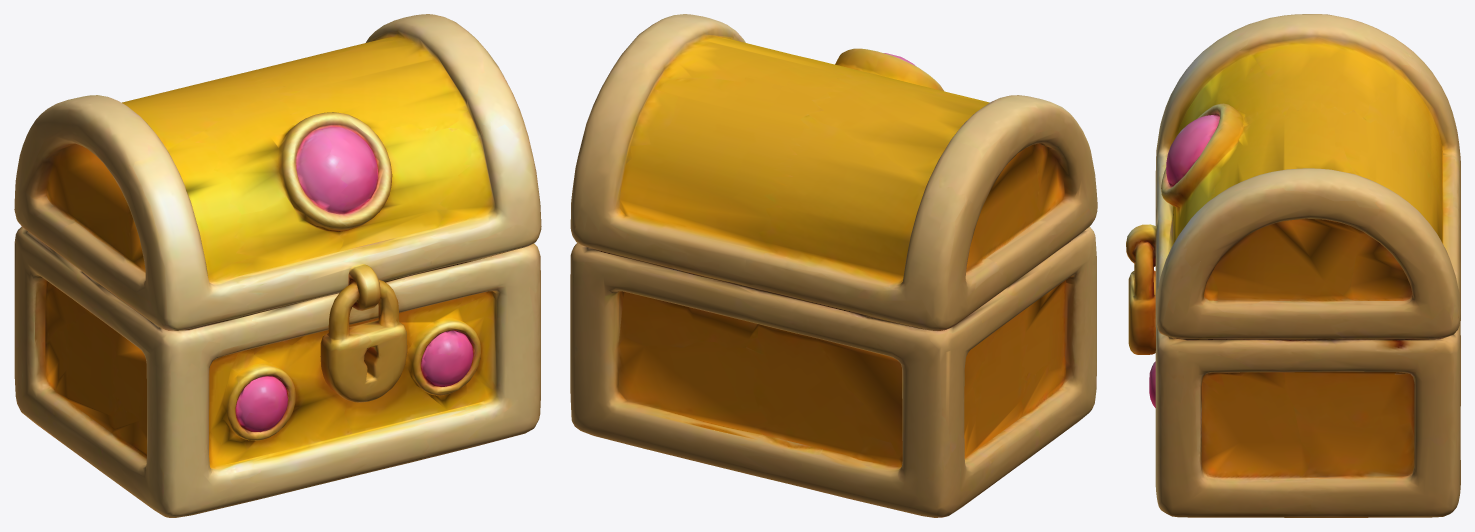
Rendered from box-gold.glb.
The picture shows the model from 3 angles, left to right: view 1: azimuth 30°, elevation 25°; view 2: azimuth 150°, elevation 25°; view 3: azimuth 270°, elevation 25°; orthographic projection. The views are drawn at different scales.
Parts seen in each view (by area): view 1: tripo_node_a4fe889a-6ffe-4429-8e1e-50590d77317e; view 2: tripo_node_a4fe889a-6ffe-4429-8e1e-50590d77317e; view 3: tripo_node_a4fe889a-6ffe-4429-8e1e-50590d77317e.
Part boxes in pixels (box(x1,y1,x2,y2)): tripo_node_a4fe889a-6ffe-4429-8e1e-50590d77317e: box(14, 14, 541, 517); tripo_node_a4fe889a-6ffe-4429-8e1e-50590d77317e: box(570, 14, 1097, 517); tripo_node_a4fe889a-6ffe-4429-8e1e-50590d77317e: box(1126, 14, 1460, 517).
Size of the model in its own units: 1 by 0.8874 by 0.7942.
Materials: 1 (1 with a texture image).
